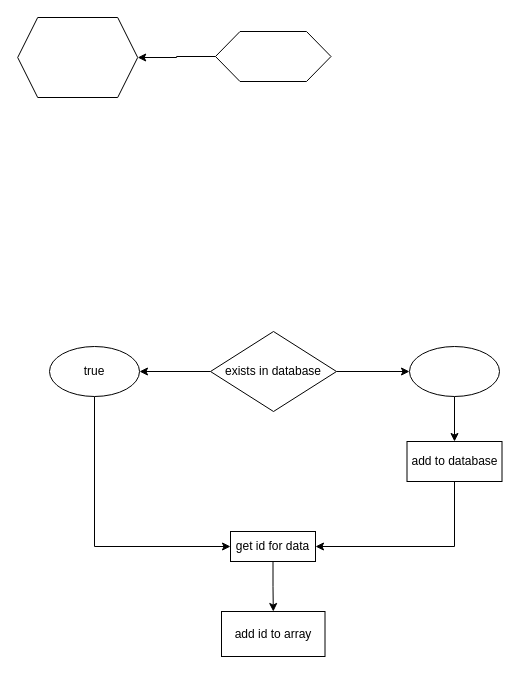
This 520x674 diagram has some shape labels left out. The shapes that lost their labels are listed below. From the top down, each one's centre as x and y in pixels, then its label:
the point at 272,56: _POST
the point at 454,371: false
